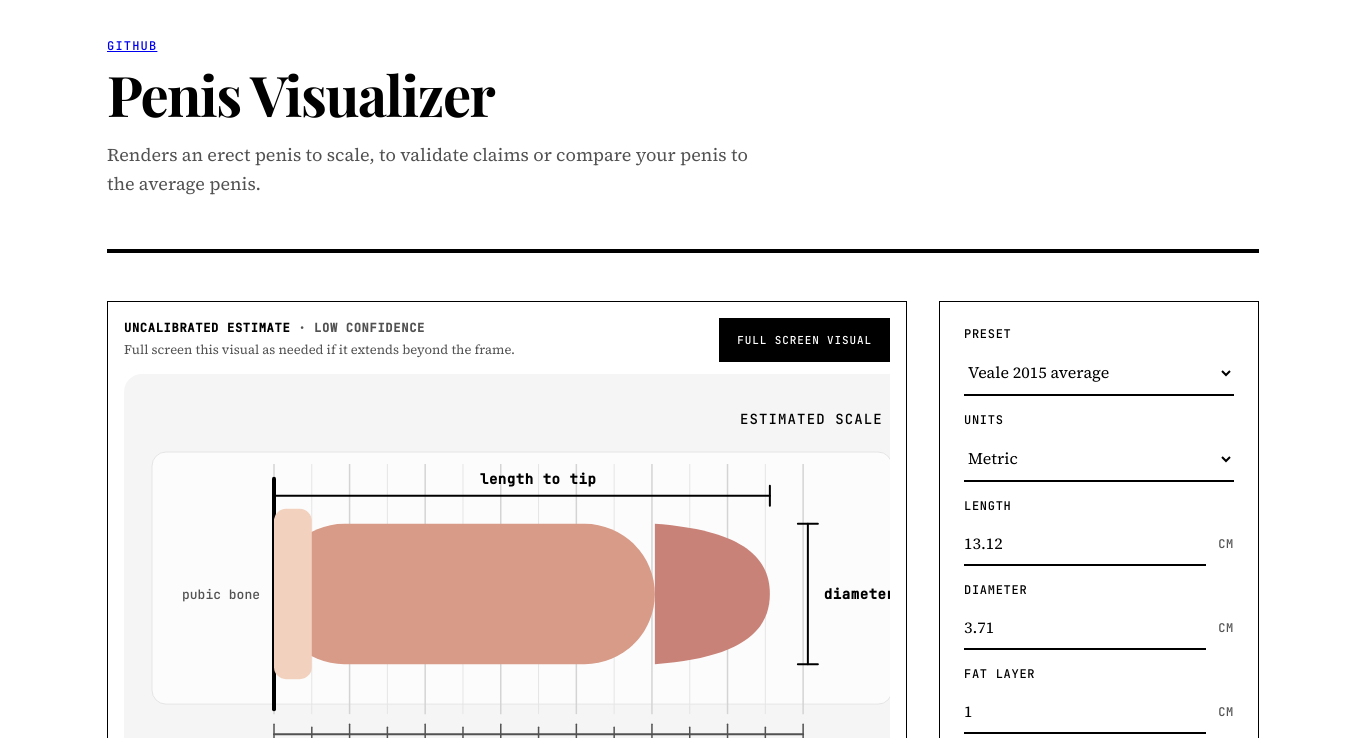
App › blocks sharing while measurements are invalid
Replace the text in the number field labelled "Length" with "0" at (1085, 544), box [964,522,1206,566]
(page scrolled)
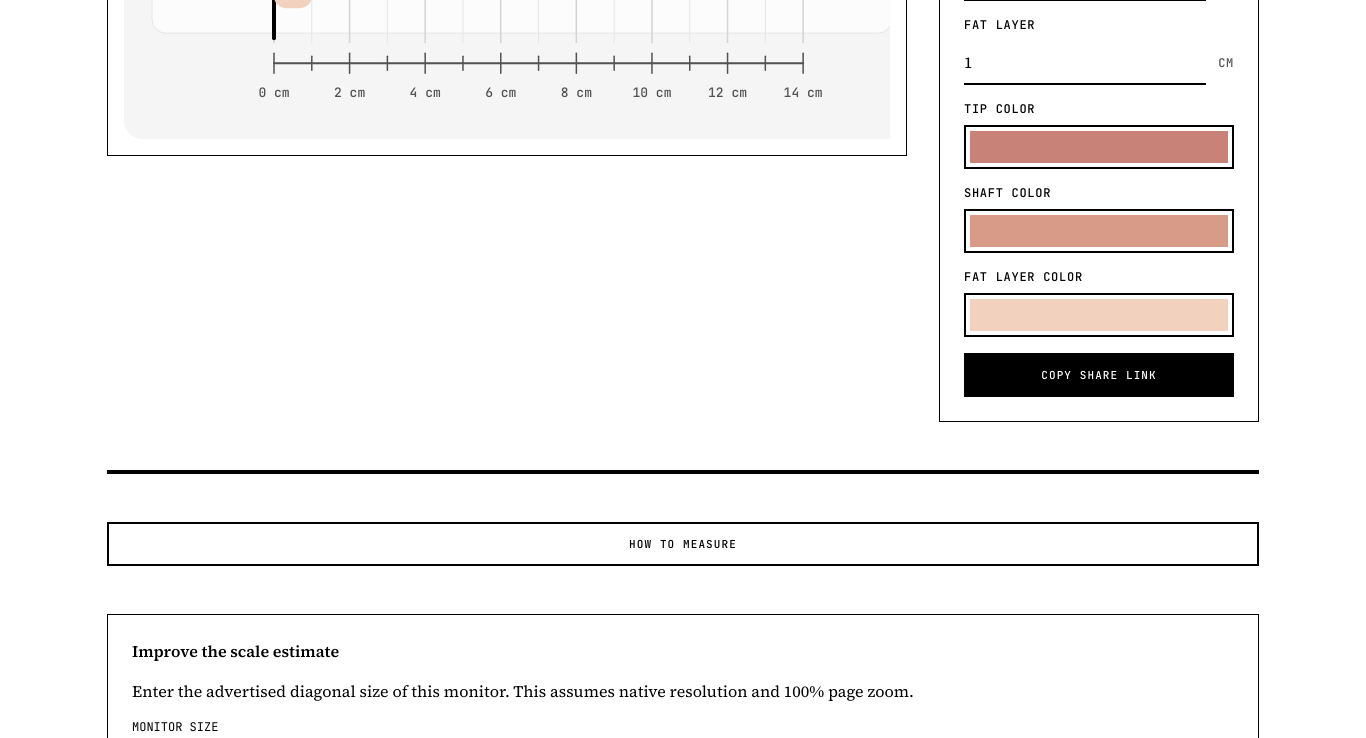
Click the button "Copy share link" at (1099, 374), box [964,352,1234,396]
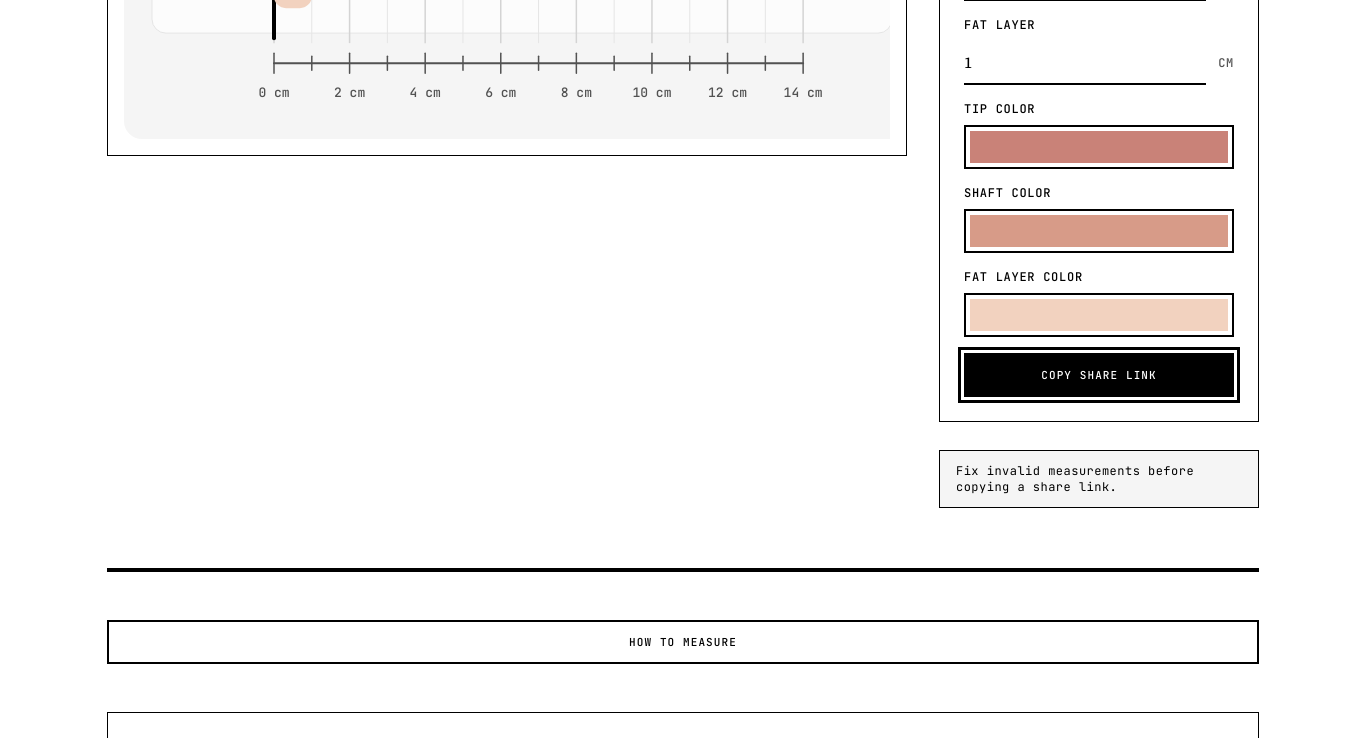
Result: the message shows "Fix invalid measurements before copying" at [956,462,1194,494]
